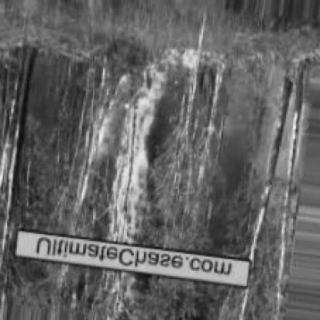Fire: (78, 54, 178, 314), (174, 47, 272, 109)
